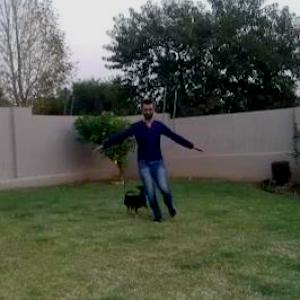land: (91, 107, 194, 228)
